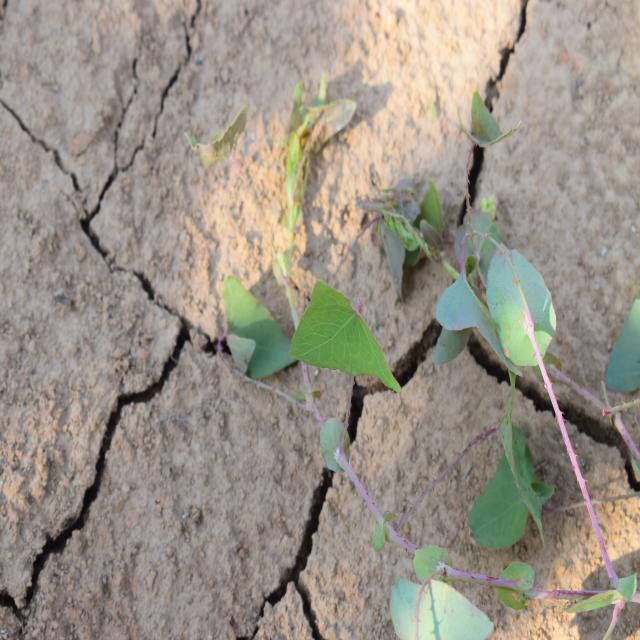Asiatic_Smartweed: (425, 98, 570, 404), (216, 196, 422, 386)
